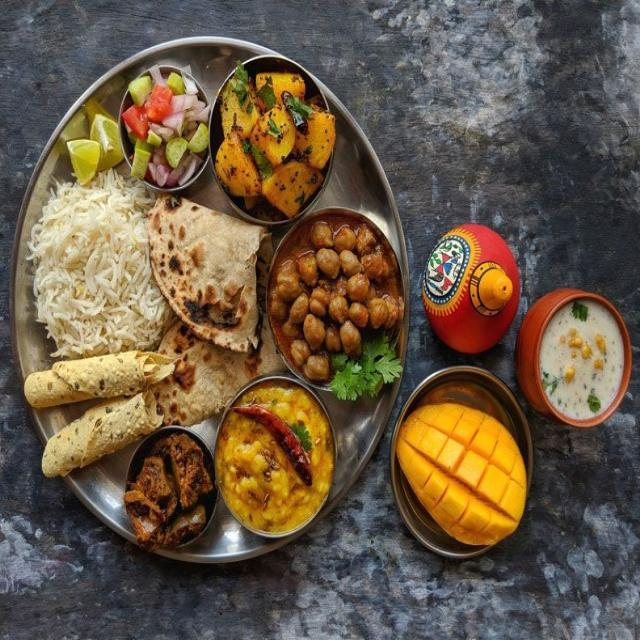papad: (23, 192, 168, 426)
rice: (28, 187, 163, 420)
roti: (143, 187, 264, 401)
sweet: (526, 296, 635, 424)
veg-fry: (210, 368, 346, 553), (218, 58, 328, 227)
